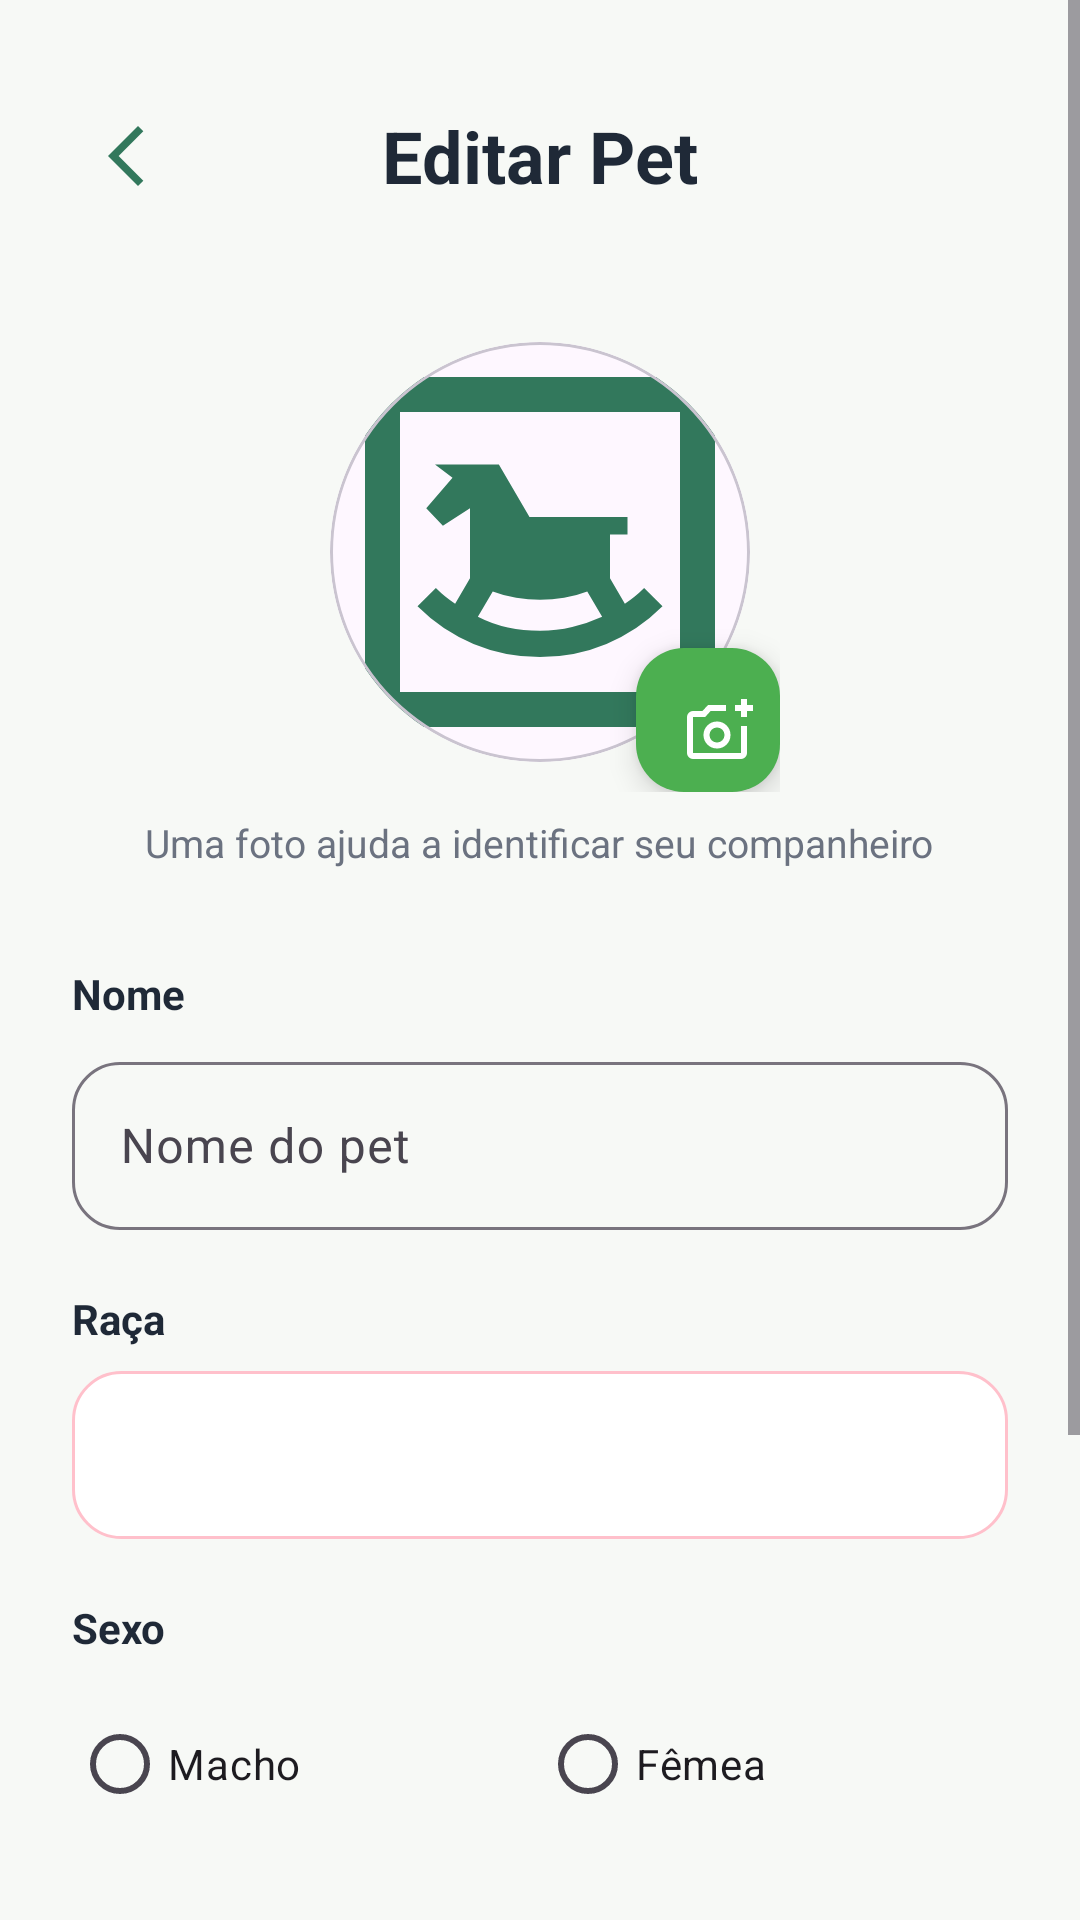

Point at icon controls on the screen. Image size 1080 x 1920, points as [x,y].
Voltar: [125,156]
